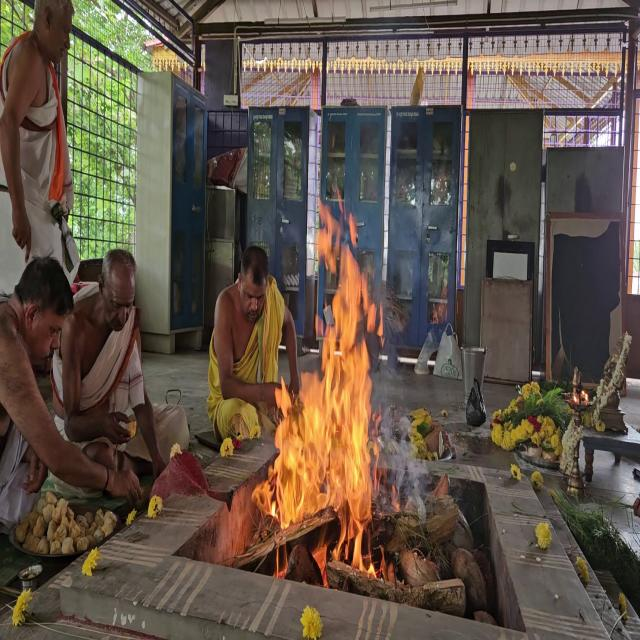fire: (240, 188, 389, 590)
